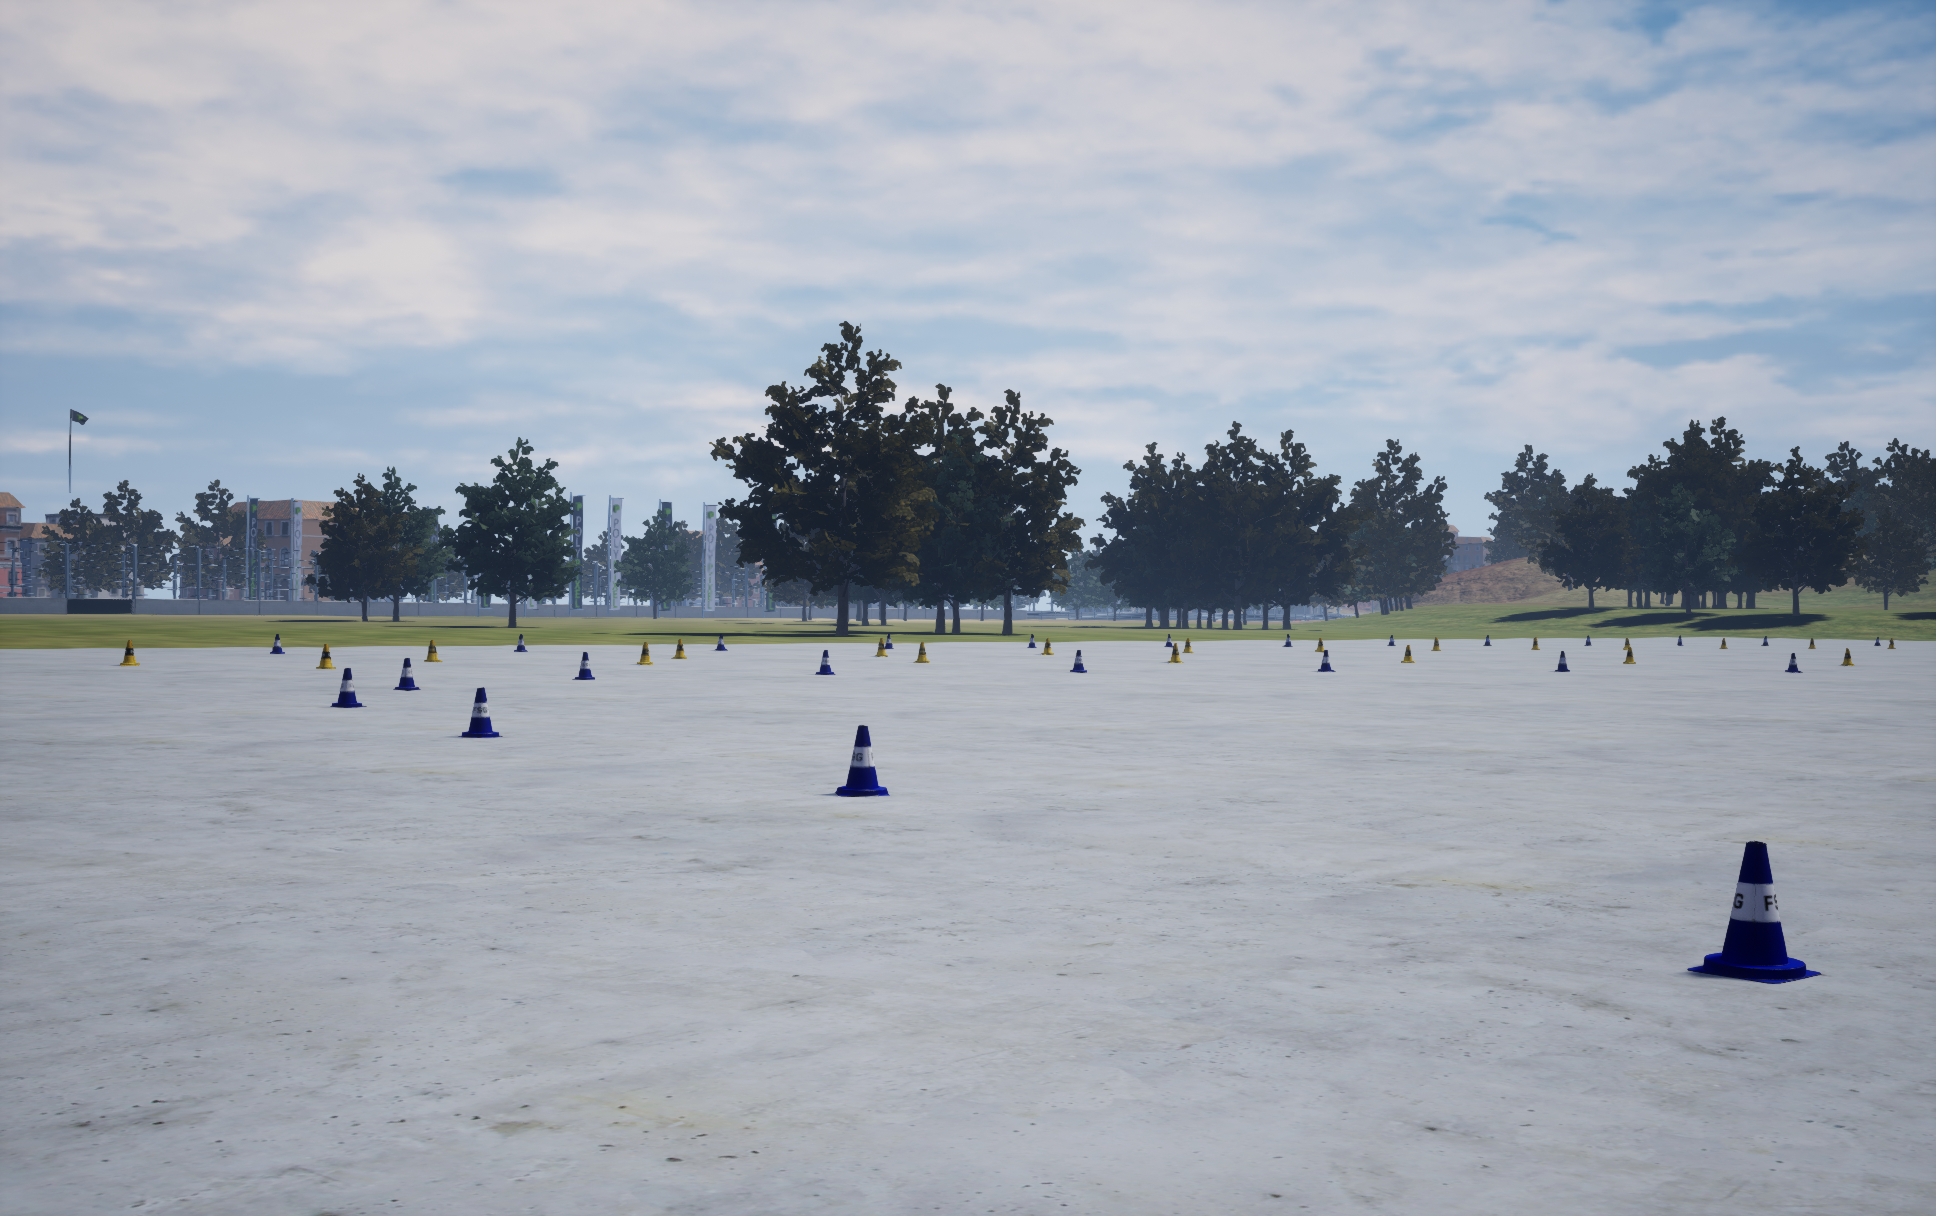blue: (120, 640, 139, 665), (317, 644, 335, 668), (424, 640, 443, 661), (913, 642, 929, 663), (637, 642, 651, 664), (671, 639, 686, 658), (1168, 643, 1182, 663), (876, 637, 887, 656)
yellow: (1687, 841, 1821, 983), (835, 726, 890, 796), (458, 686, 502, 737), (331, 668, 366, 707), (394, 658, 420, 691), (572, 651, 594, 679), (815, 650, 835, 674), (1318, 650, 1335, 671), (1070, 650, 1086, 672), (1785, 653, 1802, 672), (1555, 651, 1569, 671), (270, 635, 284, 653)
